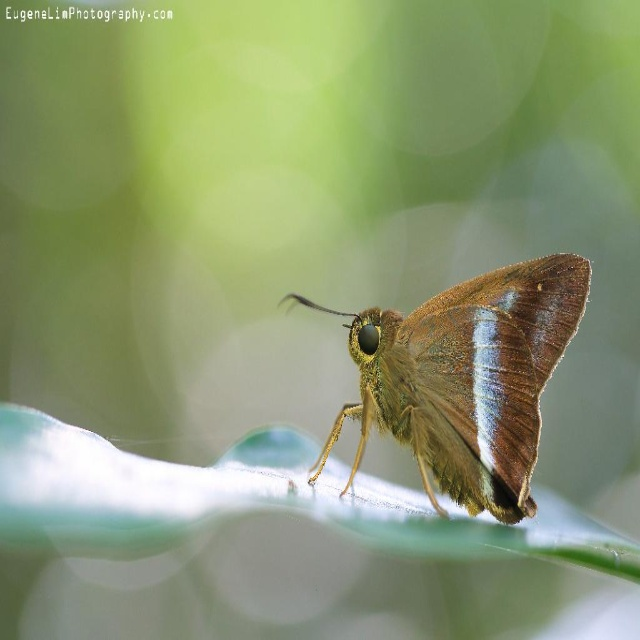Butterfly: (278, 254, 593, 522)
